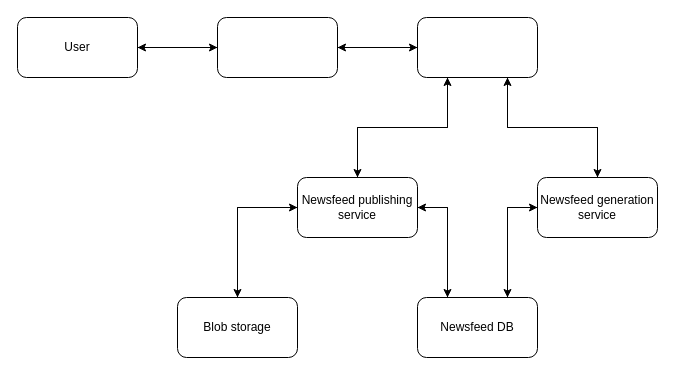
Some shapes in this 675 by 375 pixel diagram are drawn without their labels. Each missing label, with the centre of its shape:
App server: [477,47]
Load balancer: [277,47]
